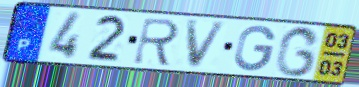2: (86, 13, 130, 65)
4: (45, 11, 83, 63)
G: (273, 25, 322, 79), (232, 24, 278, 73)
R: (130, 16, 183, 68)
V: (185, 19, 230, 70)
